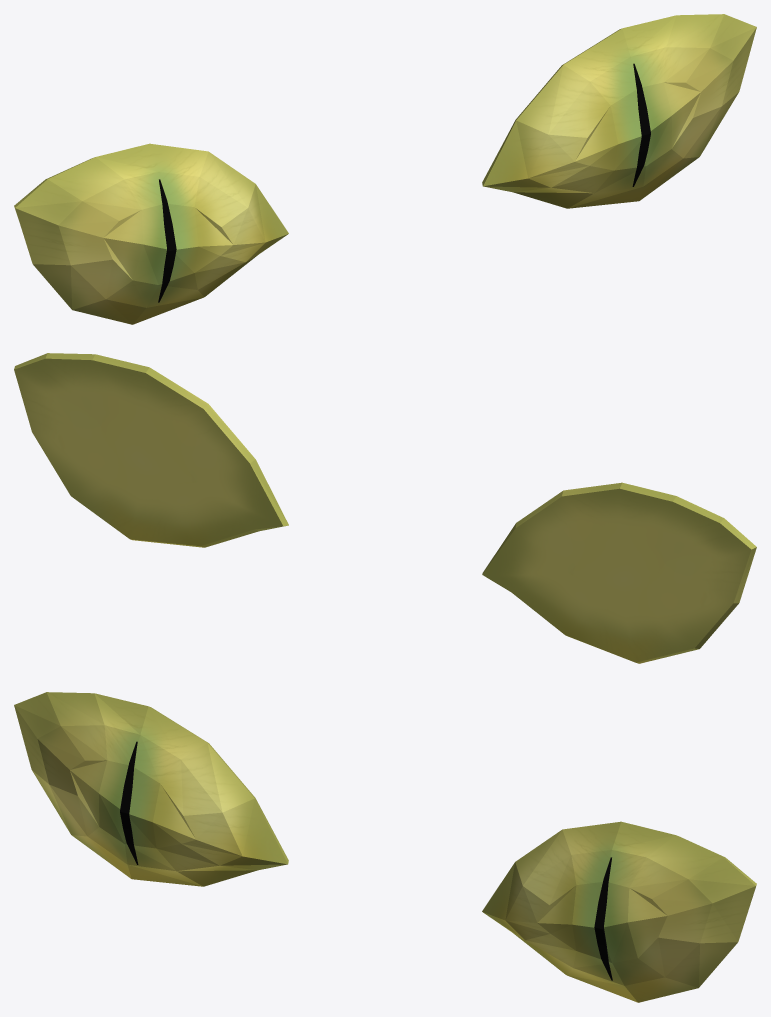
Rendered from 3d1a0b7e-e59c-4046-92e8-2e513edb29ea.glb.
3 renders of one model, top to bottom at view 1: azimuth 30°, elevation 25°; view 2: azimuth 150°, elevation 25°; view 3: azimuth 330°, elevation 25°, orthographic.
Visible parts, largest first — view 1: Node; view 2: Node; view 3: Node.
Boxes of the visible parts, x1,y1,x2,y2 form: Node: [14, 14, 756, 324]; Node: [14, 353, 756, 663]; Node: [14, 692, 756, 1002].
Bounding box in the file's own units: 6.34 × 1.44 × 0.3928.
Materials: 2 (1 with a texture image).
